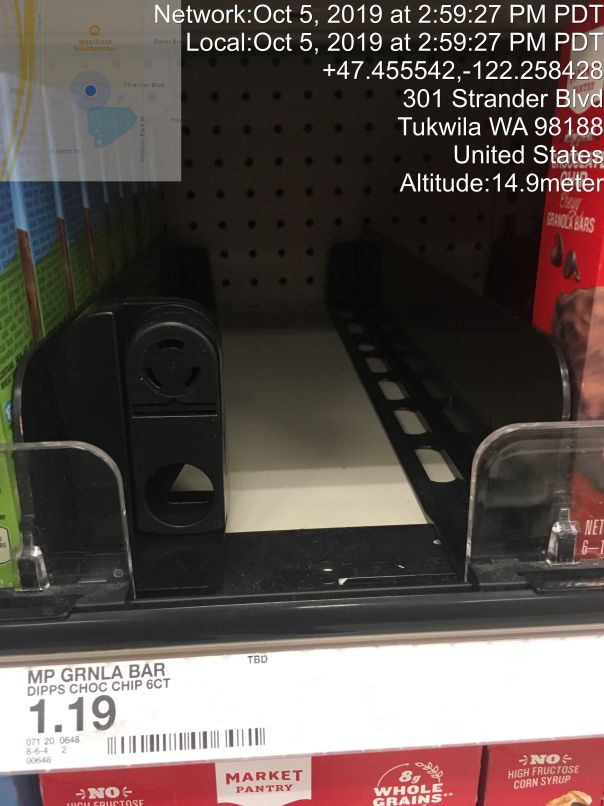Label: (8, 669, 303, 767)
Location: (391, 84, 604, 172)
Time: (145, 4, 604, 61)
Void: (147, 102, 441, 547)
